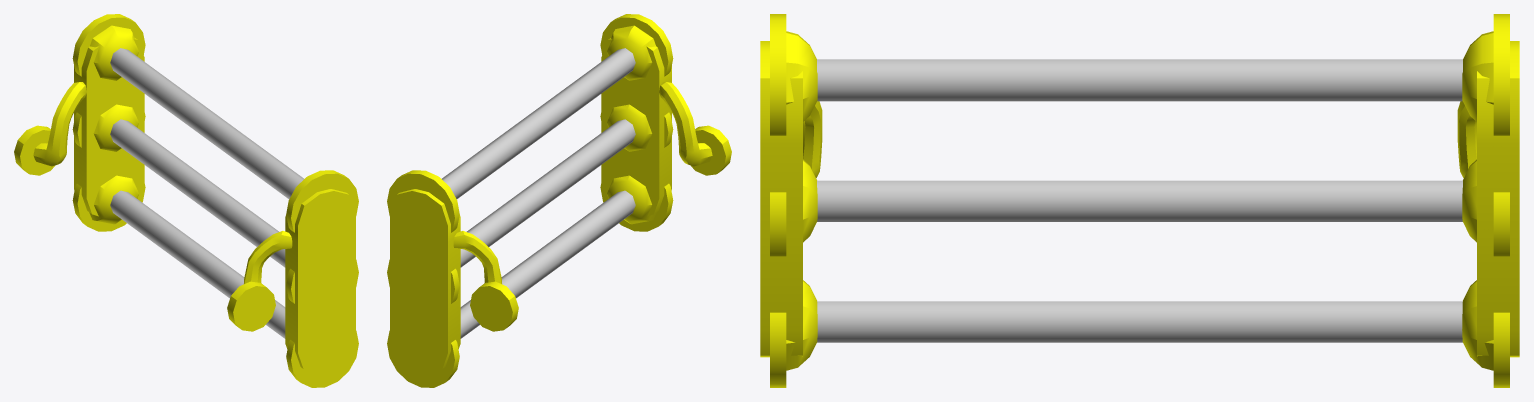
The picture shows the model from 3 angles, left to right: view 1: azimuth 30°, elevation 25°; view 2: azimuth 150°, elevation 25°; view 3: azimuth 270°, elevation 25°; orthographic projection. The views are drawn at different scales.
Parts seen in each view (by area): view 1: laser_base2, laser_vfx_mesh, laser_base1; view 2: laser_base1, laser_vfx_mesh, laser_base2; view 3: laser_vfx_mesh, laser_base2, laser_base1.
Boxes of the visible parts, x1,y1,x2,y2 form: laser_base2: (227,170,358,387); laser_vfx_mesh: (110,48,303,338); laser_base1: (14,14,145,231); laser_base1: (387,170,518,387); laser_vfx_mesh: (442,48,635,338); laser_base2: (600,14,731,231); laser_vfx_mesh: (817,59,1462,342); laser_base2: (760,14,822,387); laser_base1: (1457,14,1519,387).
Bounding box in the file's own units: 0.00978 × 0.0158 × 0.03.
2 materials, 1 textured.
